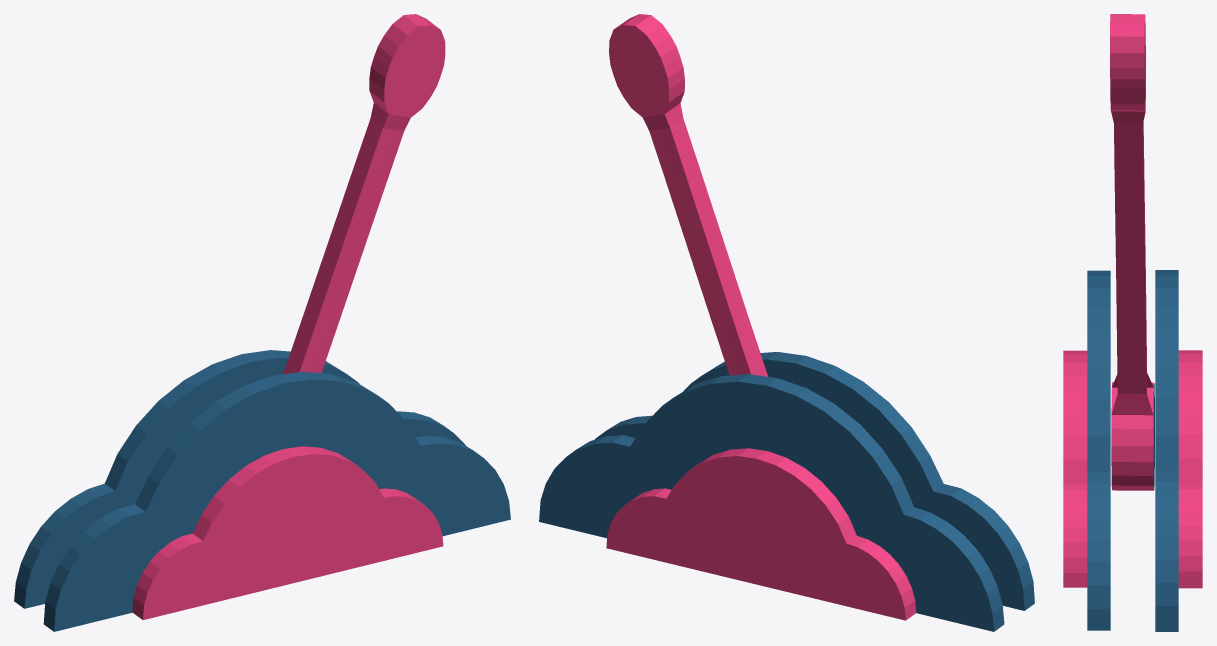
File: lever.fbx
3 renders of one model, left to right at view 1: azimuth 30°, elevation 25°; view 2: azimuth 150°, elevation 25°; view 3: azimuth 270°, elevation 25°, orthographic. The views are drawn at different scales.
Visible parts, largest first — view 1: Circle.001, Circle.000; view 2: Circle.001, Circle.000; view 3: Circle.001, Circle.000.
Boxes of the visible parts, x1=… form: Circle.001: x1=14, y1=350, x2=510, y2=631; Circle.000: x1=283, y1=14, x2=445, y2=374; Circle.001: x1=539, y1=352, x2=1034, y2=631; Circle.000: x1=609, y1=14, x2=768, y2=376; Circle.001: x1=1063, y1=270, x2=1202, y2=631; Circle.000: x1=1110, y1=14, x2=1154, y2=490.
Size of the model in its own units: 498 by 528 by 117.
